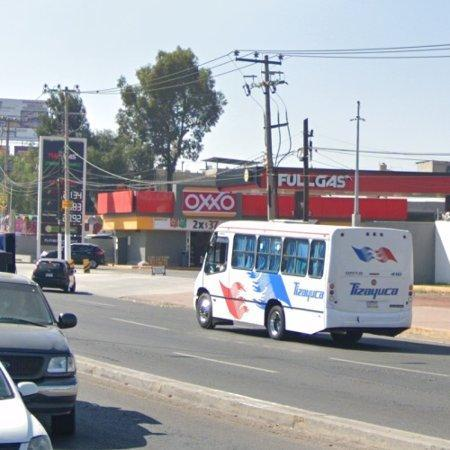buses: (194, 221, 414, 345)
